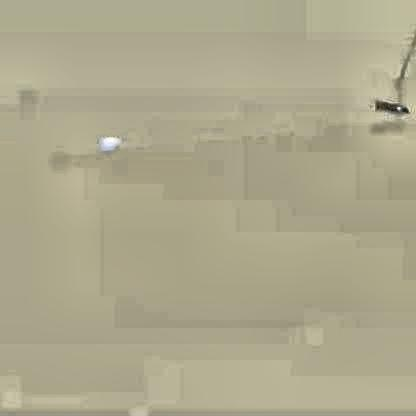golfball: (99, 133, 119, 150)
